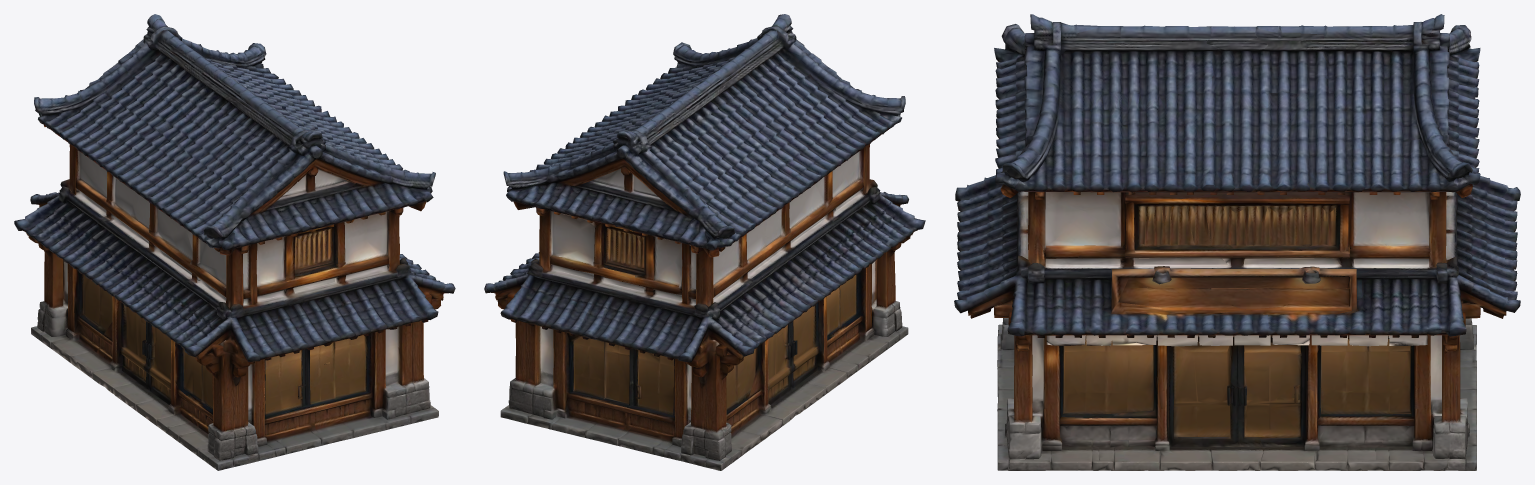
Rendered from level-2-lite.glb.
3 views of the same model, side by side, from view 1: azimuth 30°, elevation 25°; view 2: azimuth 150°, elevation 25°; view 3: azimuth 270°, elevation 25° (orthographic). The views are drawn at different scales.
Visible parts, largest first — view 1: tripo_node_2f23357a-4f46-4f3f-8741-fdb46e8d90e6; view 2: tripo_node_2f23357a-4f46-4f3f-8741-fdb46e8d90e6; view 3: tripo_node_2f23357a-4f46-4f3f-8741-fdb46e8d90e6.
Part boxes in pixels (x1,y1,x2,y2): tripo_node_2f23357a-4f46-4f3f-8741-fdb46e8d90e6: (14, 14, 455, 470); tripo_node_2f23357a-4f46-4f3f-8741-fdb46e8d90e6: (484, 14, 925, 470); tripo_node_2f23357a-4f46-4f3f-8741-fdb46e8d90e6: (954, 14, 1520, 470).
Bounding box in the file's own units: 0.6826 × 0.7411 × 0.9817.
Materials: 1 (1 with a texture image).
